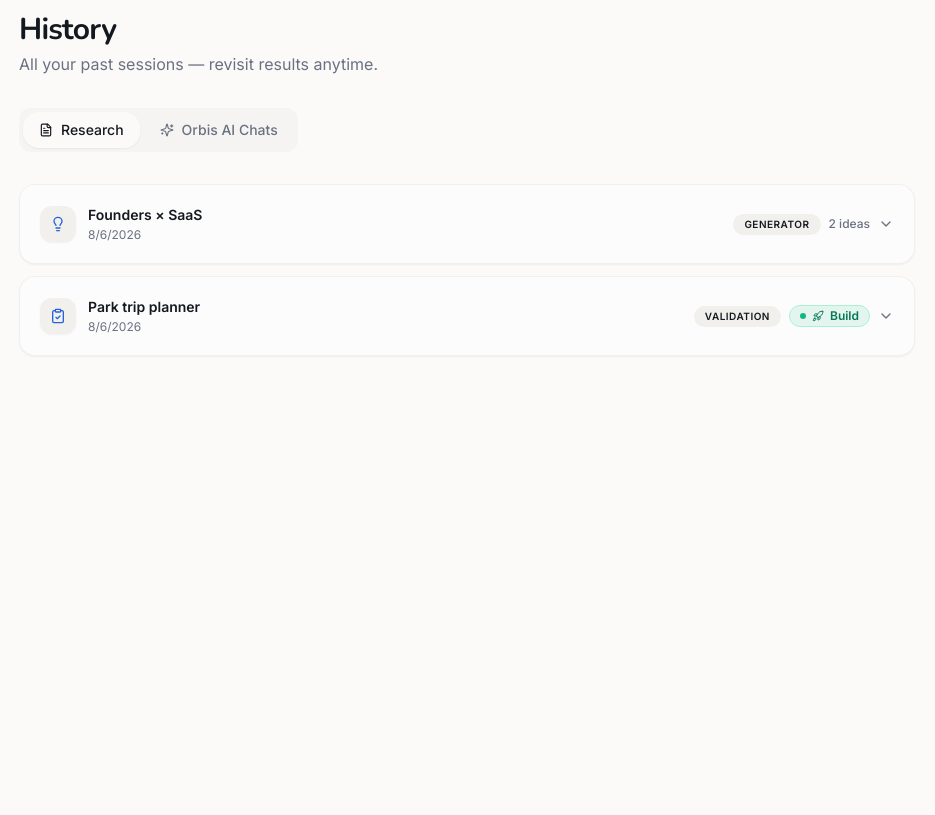
Test case: Reports NextStepCard › keeps top idea unsaved when a sibling idea from the same run is saved
Click the button with aria-label "generator: founders × saas". click: click(58, 224)
box: [20, 185, 914, 263]
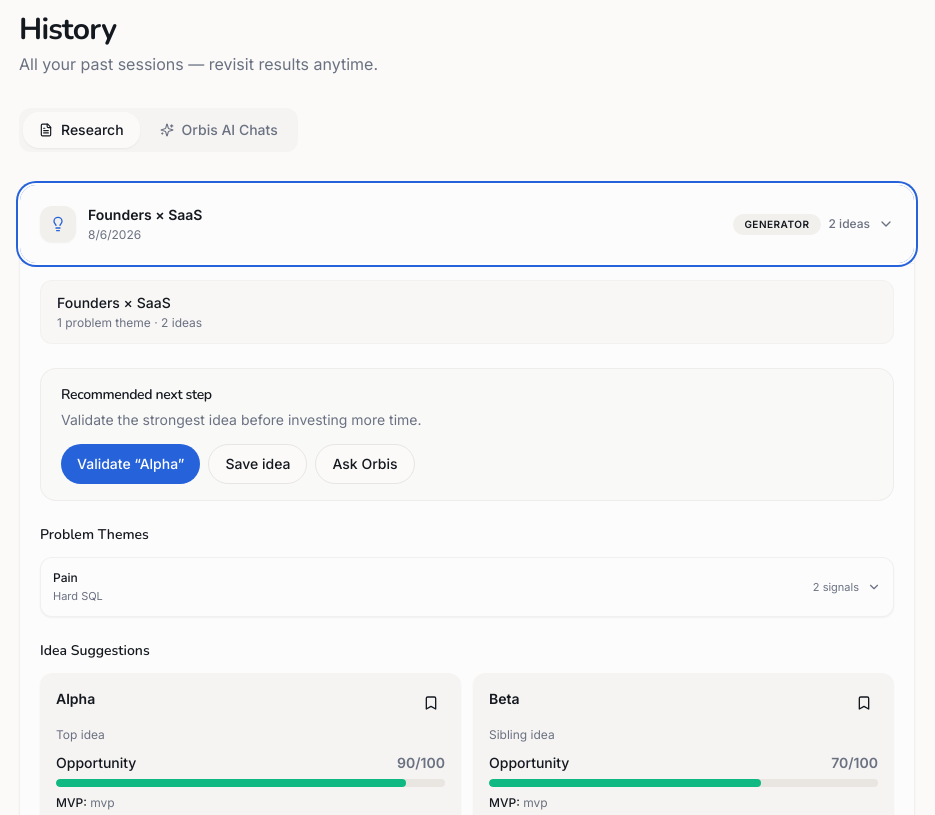
expect the button "Save idea" is shown: met, box [208, 444, 307, 484]
